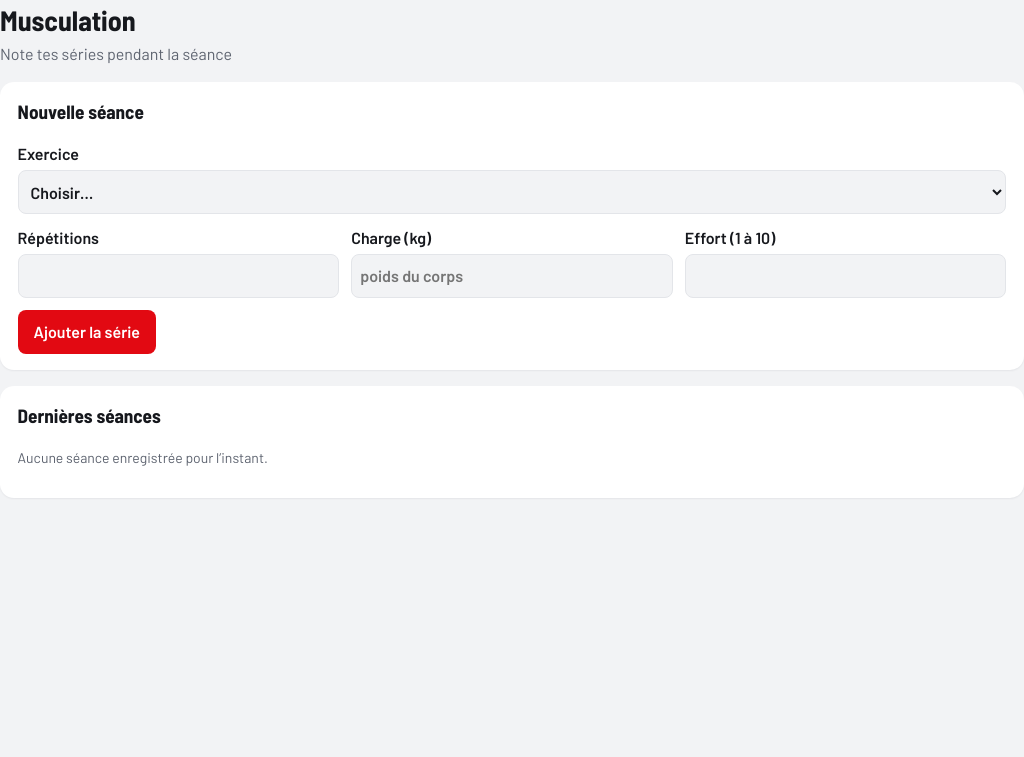
Test: StrengthPage › accepts a free exercise and checks the bounds
This screenshot has width=1024, height=757.
Select "Autre exercice…" in the dropdown labelled "Exercice" at (512, 192), box [18, 170, 1006, 214]
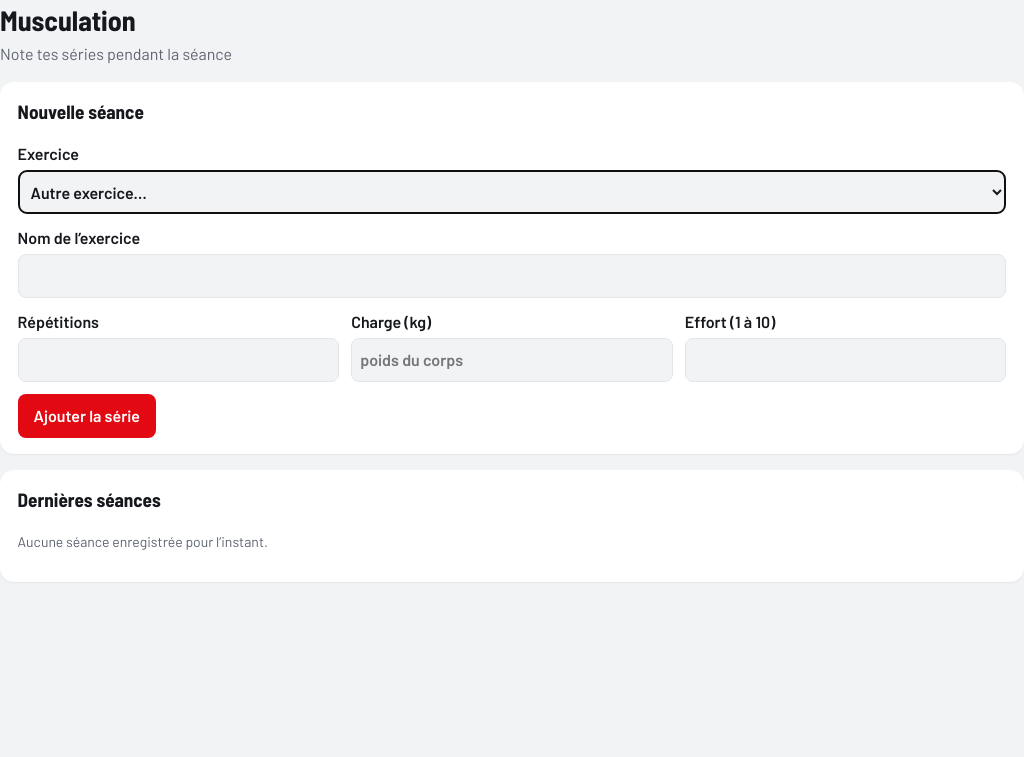
Type "Hack squat" into the field labelled "Nom de l’exercice" at (512, 276), box [18, 254, 1006, 298]
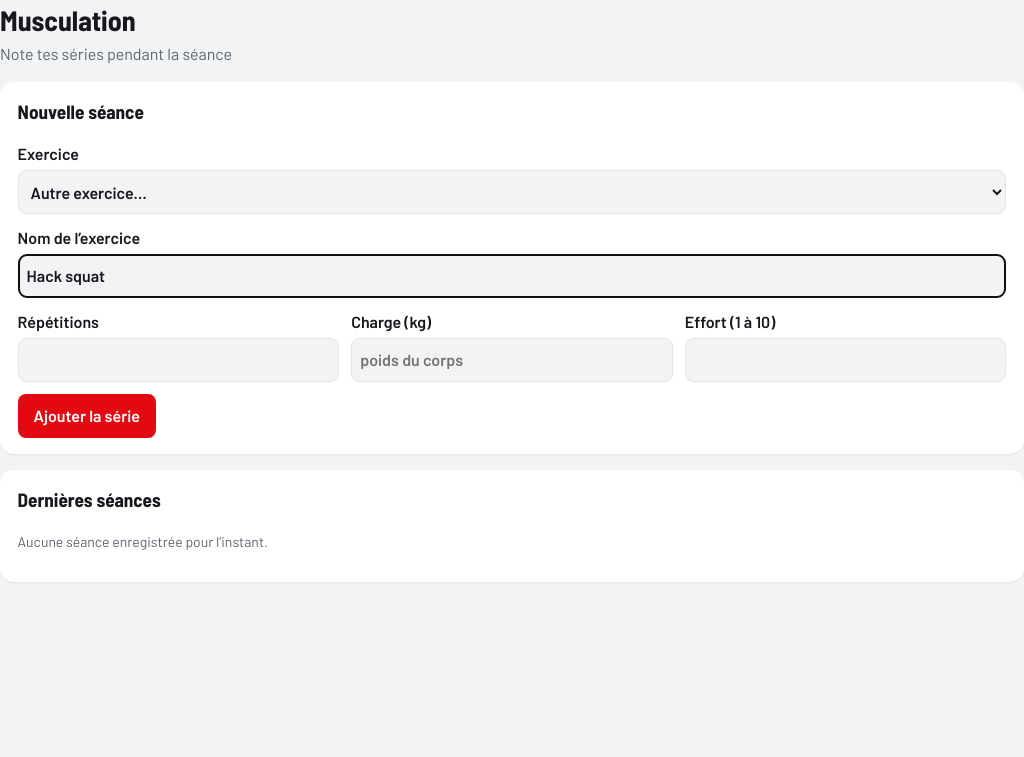
Type "200" into the field labelled "Répétitions" at (178, 360), box [18, 338, 339, 382]
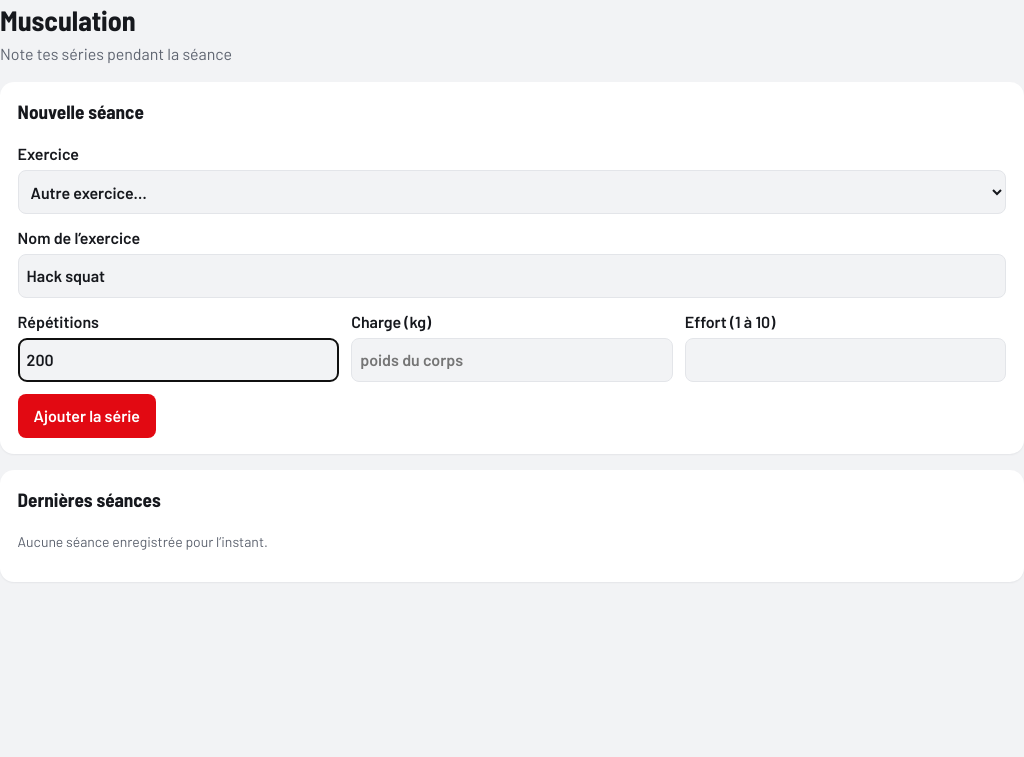
Click the button "Ajouter la série" at (87, 416), box [18, 394, 156, 438]
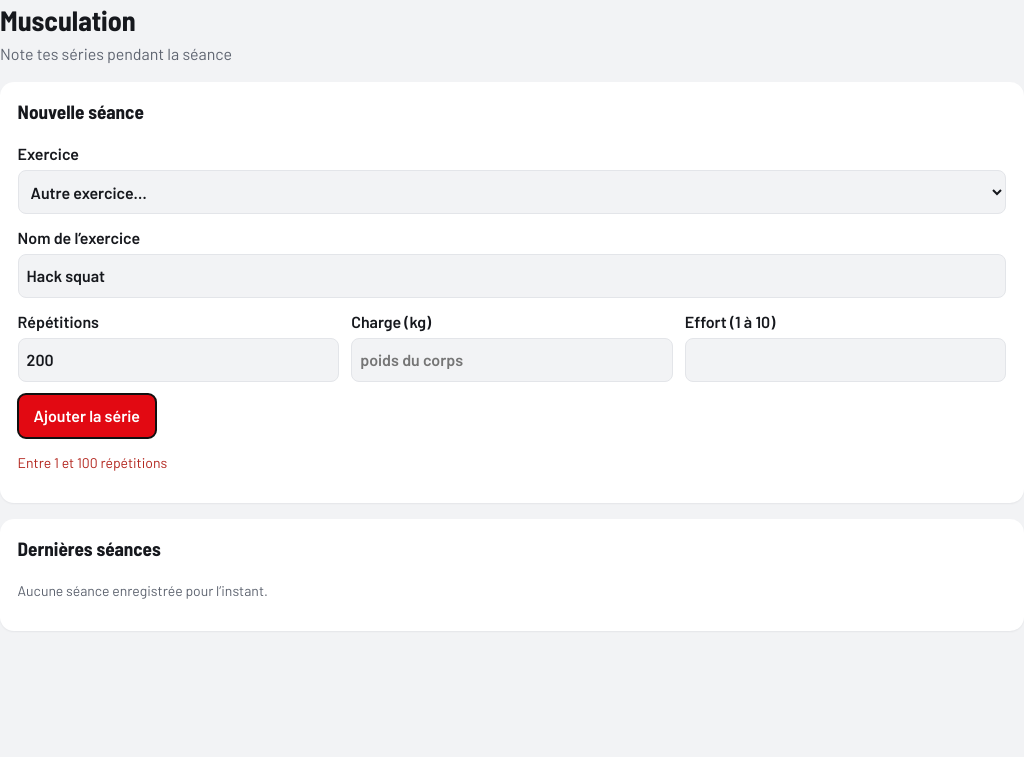
Check: the message reads "Entre 1 et 100 répétitions", box [18, 454, 167, 471]
Replace the text in the field labelled "Répétitions" with "12" at (178, 360), box [18, 338, 339, 382]
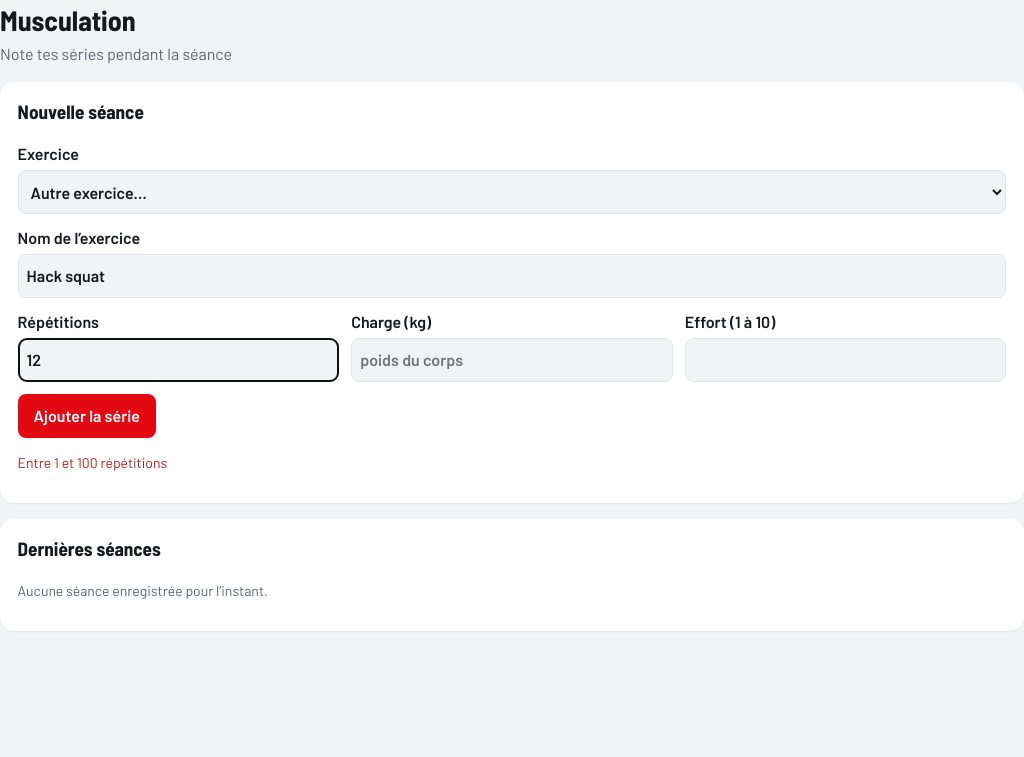
Click the button "Ajouter la série" at (87, 416), box [18, 394, 156, 438]
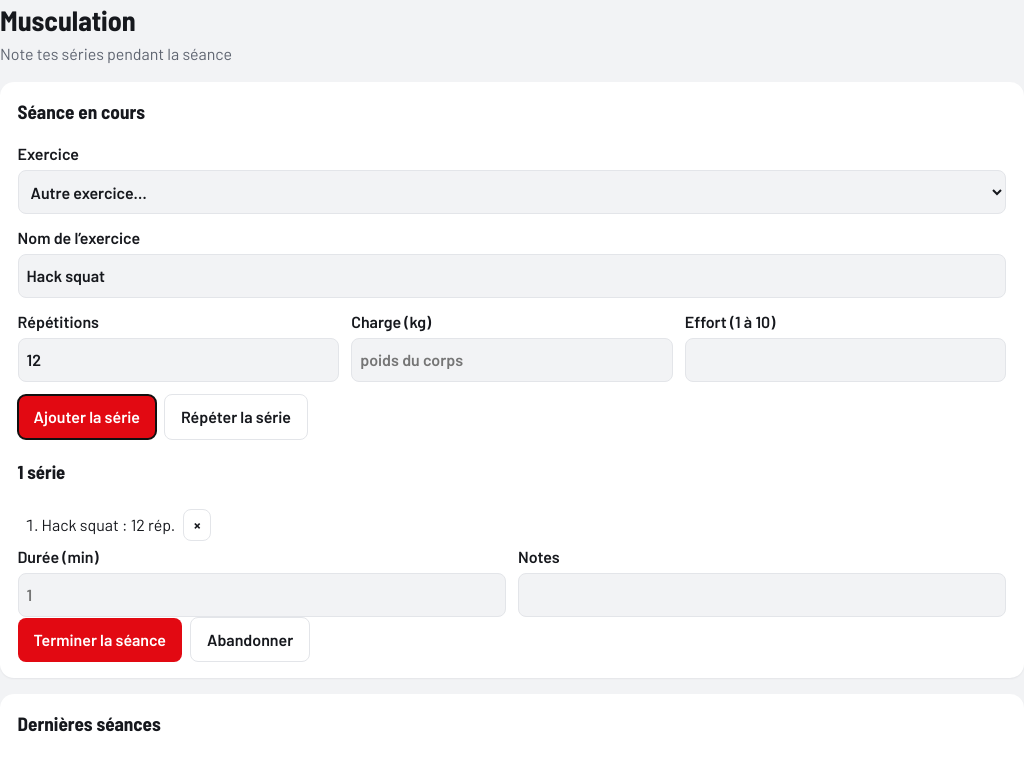
Check: the text "Hack squat : 12 rép." is shown, box [42, 515, 175, 534]
